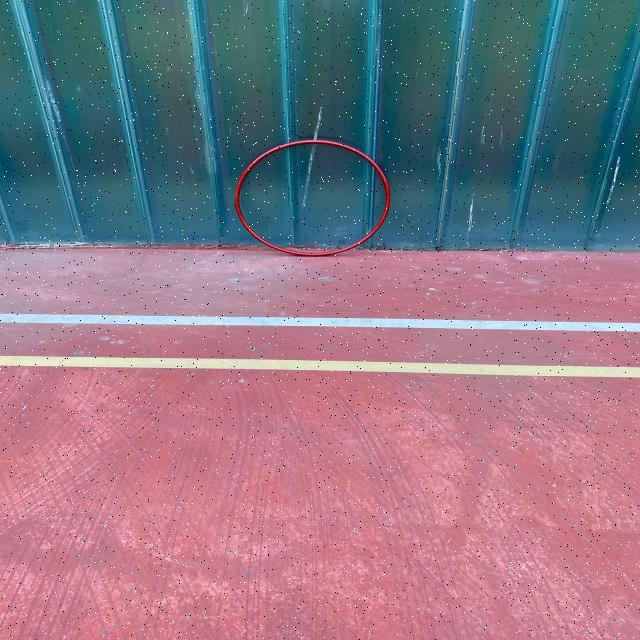Circle: (232, 140, 392, 256)
